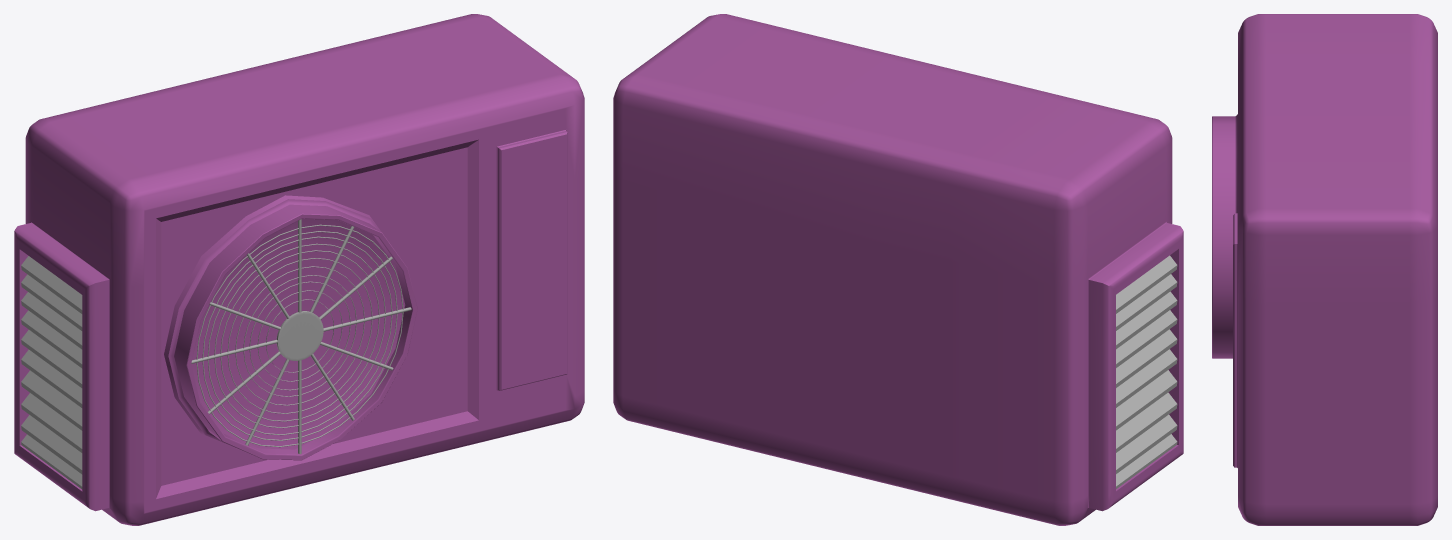
Rendered from model_AirConditioner_high.fbx.
3 views of the same model, side by side, from view 1: azimuth 30°, elevation 25°; view 2: azimuth 150°, elevation 25°; view 3: azimuth 270°, elevation 25° (orthographic). The views are drawn at different scales.
Parts seen in each view (by area): view 1: airconditioner_AirConditioner_high; view 2: airconditioner_AirConditioner_high; view 3: airconditioner_AirConditioner_high.
Boxes of the visible parts, box(x1,y1,x2,y2) form: airconditioner_AirConditioner_high: box(14, 14, 584, 525); airconditioner_AirConditioner_high: box(613, 14, 1183, 525); airconditioner_AirConditioner_high: box(1212, 14, 1437, 525).
Bounding box in the file's own units: 104 × 70 × 45.21.
